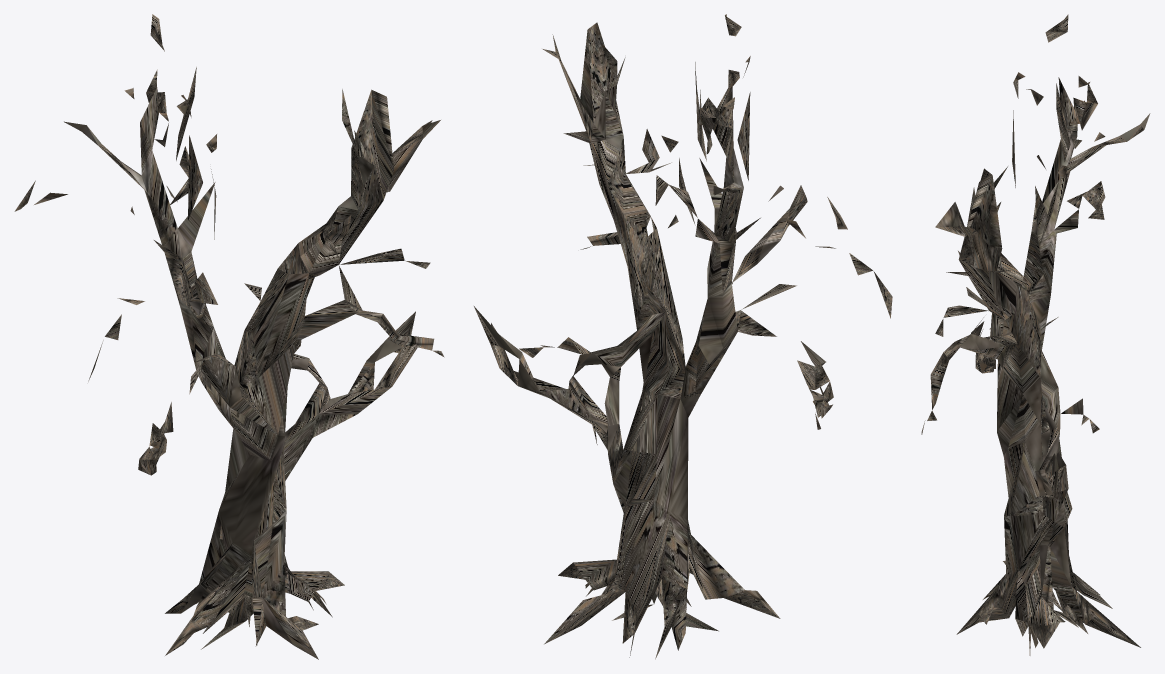
The model's file is Dead_Autumn_Tree_6000.glb.
3 renders of one model, left to right at view 1: azimuth 30°, elevation 25°; view 2: azimuth 150°, elevation 25°; view 3: azimuth 270°, elevation 25°, orthographic. The views are drawn at different scales.
Parts seen in each view (by area): view 1: output_unwrapped; view 2: output_unwrapped; view 3: output_unwrapped.
Boxes of the visible parts, x1,y1,x2,y2 form: output_unwrapped: (14, 14, 444, 659); output_unwrapped: (474, 14, 892, 659); output_unwrapped: (921, 14, 1150, 655).
Size of the model in its own units: 5.91 by 9.3 by 3.32.
1 material, 1 textured.
